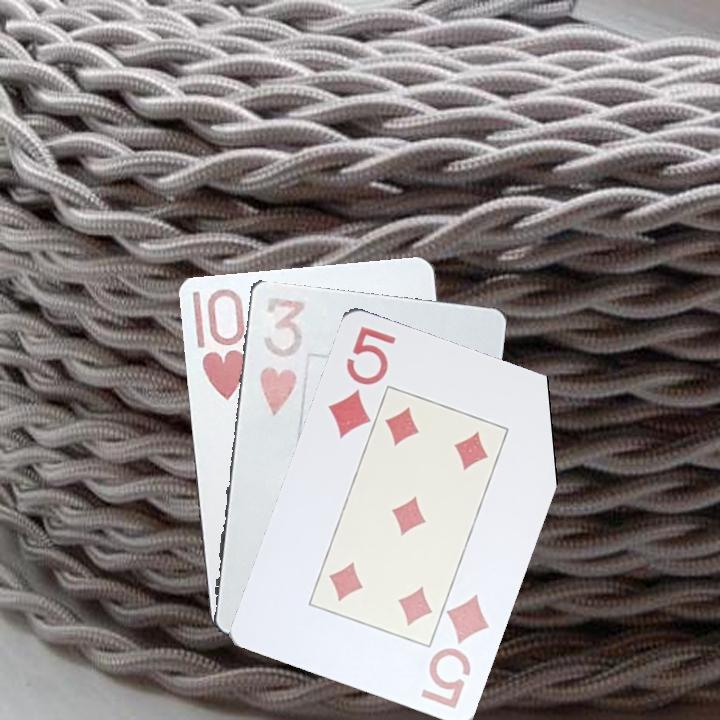3h: (255, 293, 308, 418)
5d: (416, 590, 493, 711), (324, 322, 399, 441)
Th: (197, 284, 247, 403)
